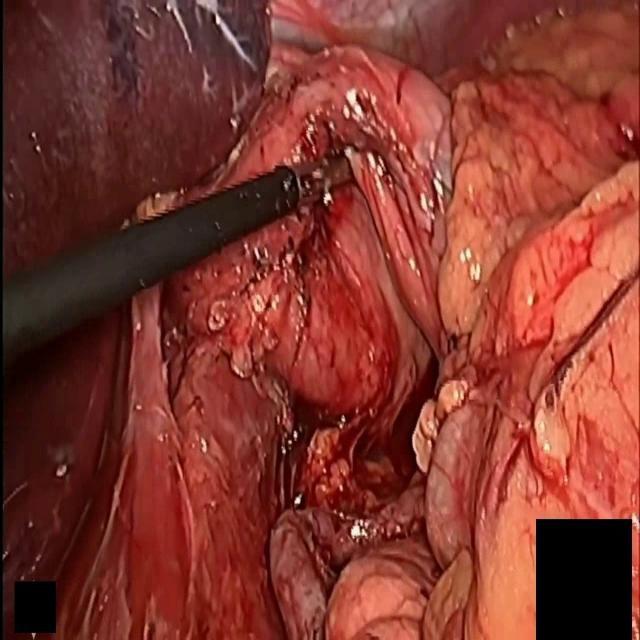surgical-tool: (0, 154, 352, 374)
